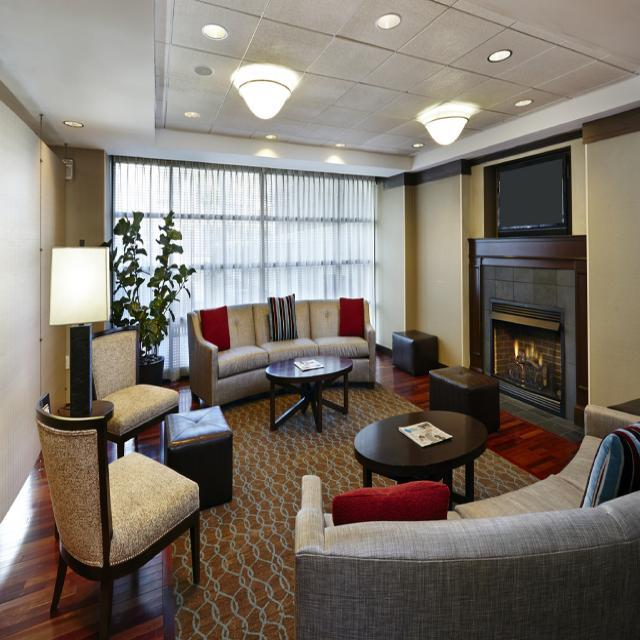Fire: (510, 342, 542, 378)
